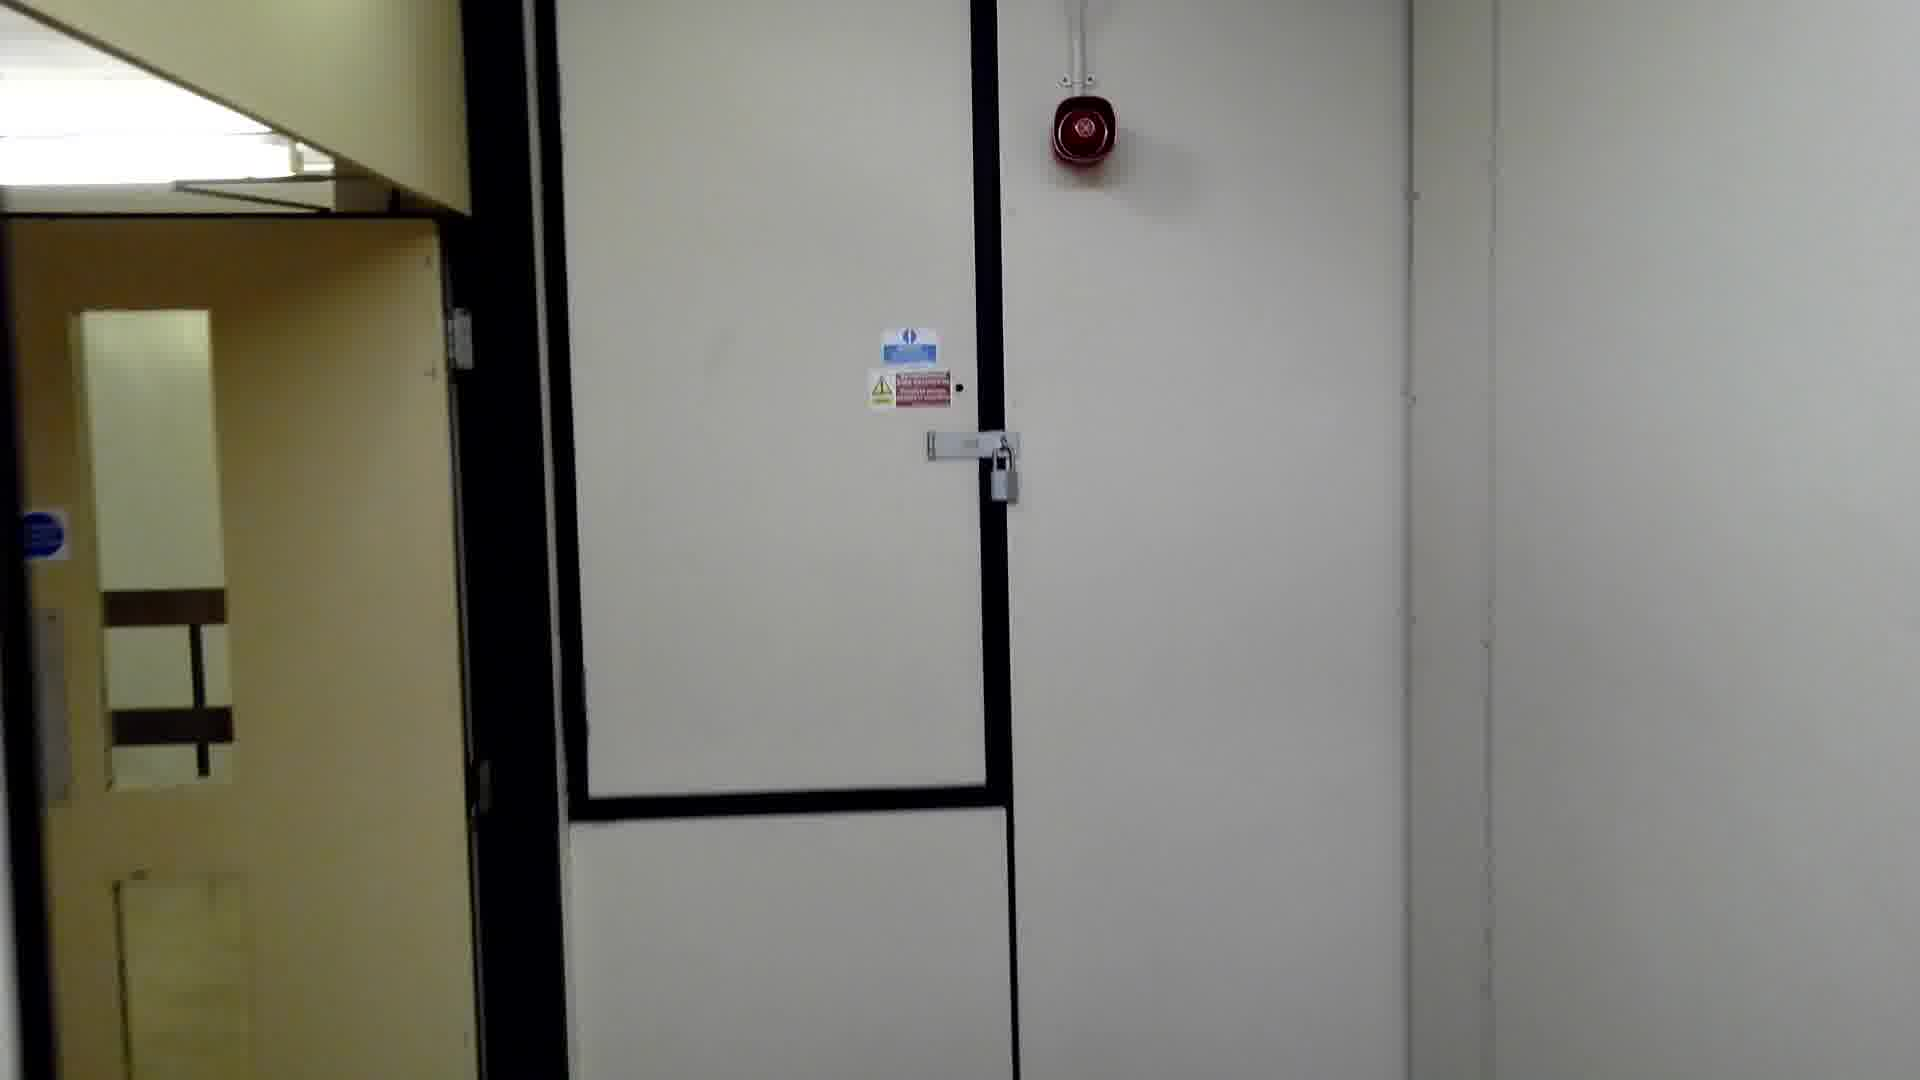Door: (1, 204, 469, 1080)
